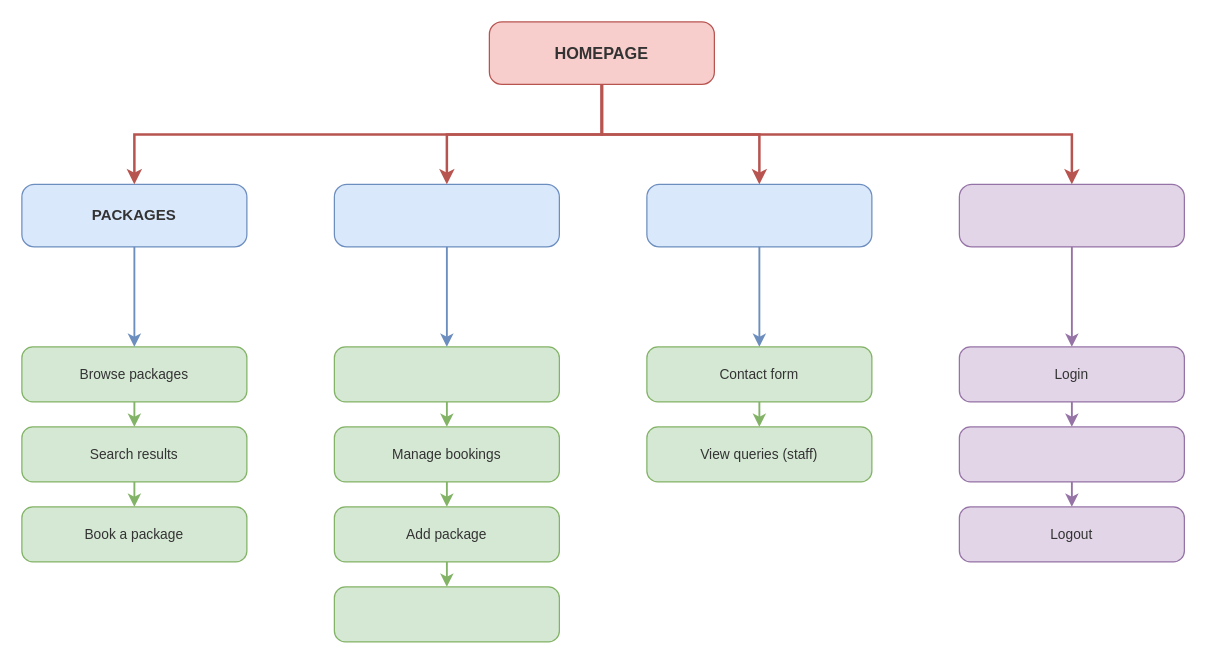
Image size: 1206x664. Some labels were removed from this diagram. Each missing label, with the centre of its shape:
"ACCOUNT" belongs at (x=1071, y=215).
"CONTACT" belongs at (x=759, y=215).
"DASHBOARD" belongs at (x=446, y=215).
"Manage employees" belongs at (x=446, y=614).
"My bookings" belongs at (x=446, y=374).
"Register" belongs at (x=1071, y=454).
